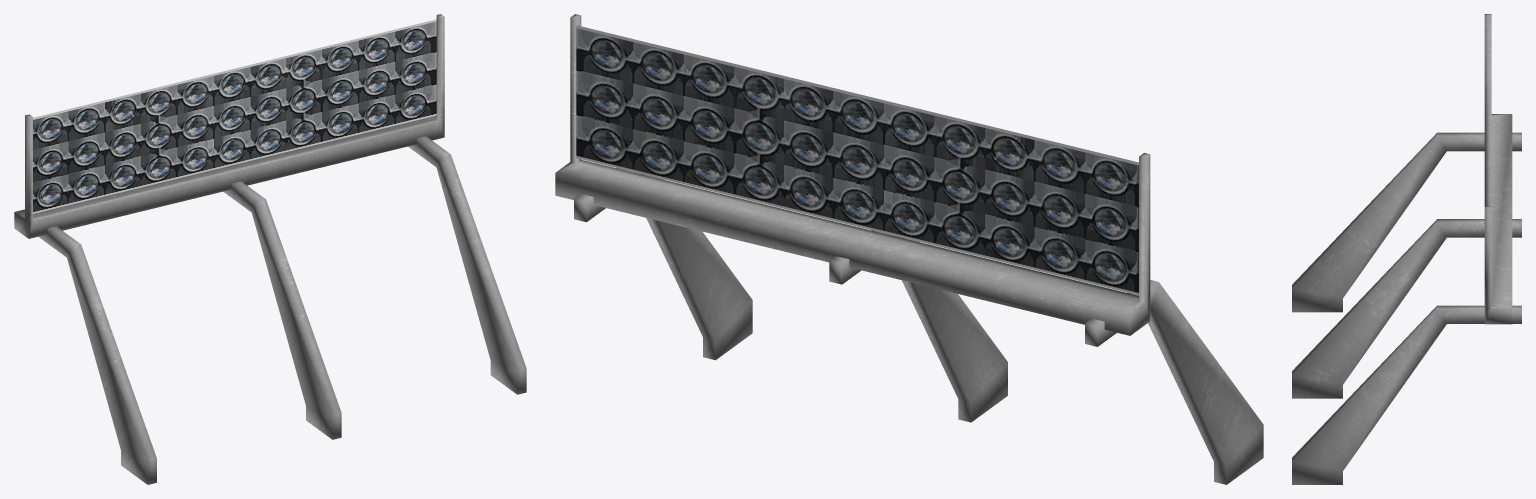
File: lamp_big.fbx
The picture shows the model from 3 angles, left to right: view 1: azimuth 30°, elevation 25°; view 2: azimuth 150°, elevation 25°; view 3: azimuth 270°, elevation 25°; orthographic projection. The views are drawn at different scales.
Visible parts, largest first — view 1: Cube; view 2: Cube; view 3: Cube.
Part boxes in pixels (x1,y1,x2,y2): Cube: (14,14,526,484); Cube: (555,14,1263,484); Cube: (1292,14,1521,484).
Size of the model in its own units: 18 by 12.32 by 9.
